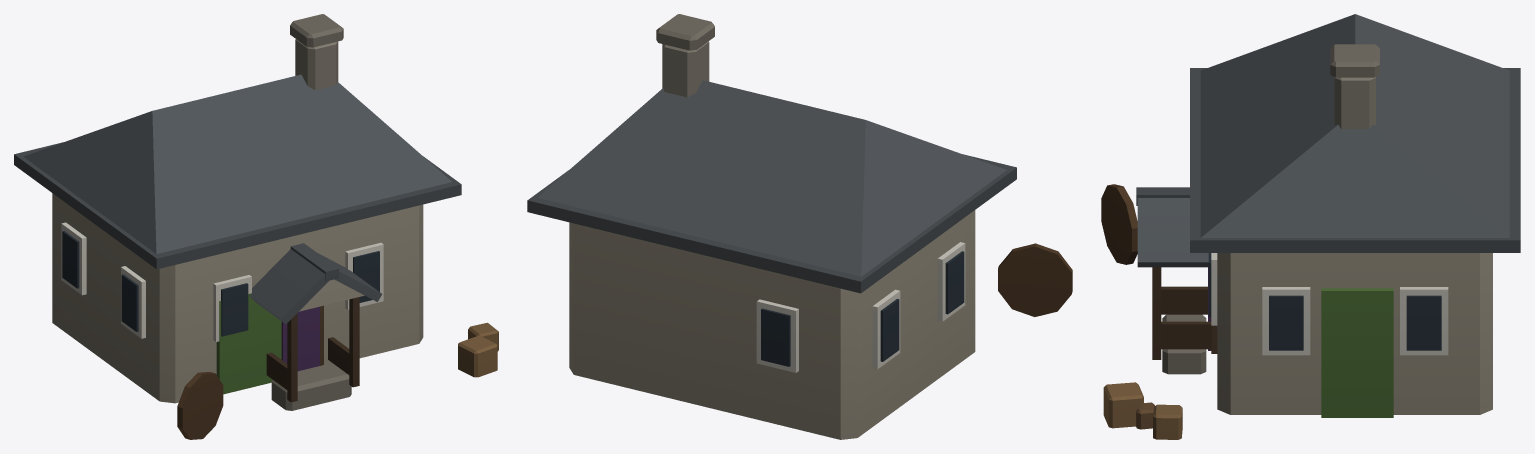
File: workshop.glb
The picture shows the model from 3 angles, left to right: view 1: azimuth 30°, elevation 25°; view 2: azimuth 150°, elevation 25°; view 3: azimuth 270°, elevation 25°; orthographic projection. The views are drawn at different scales.
Visible parts, largest first — view 1: workshop_model; view 2: workshop_model; view 3: workshop_model.
Boxes of the visible parts, x1,y1,x2,y2 form: workshop_model: (14, 14, 498, 439); workshop_model: (527, 14, 1072, 439); workshop_model: (1101, 14, 1520, 439).
Size of the model in its own units: 0.8324 by 0.695 by 0.7607.
